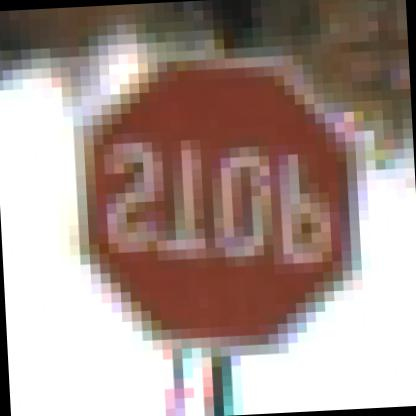stop: (58, 38, 386, 359)
